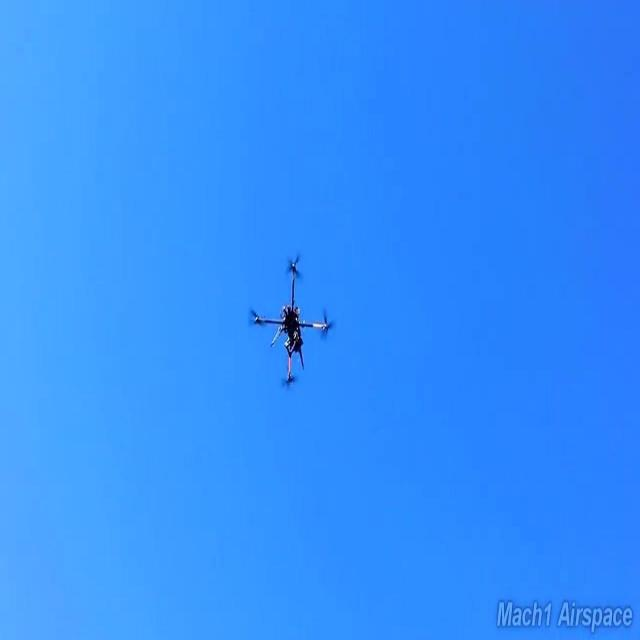UAV: (249, 252, 335, 389)
